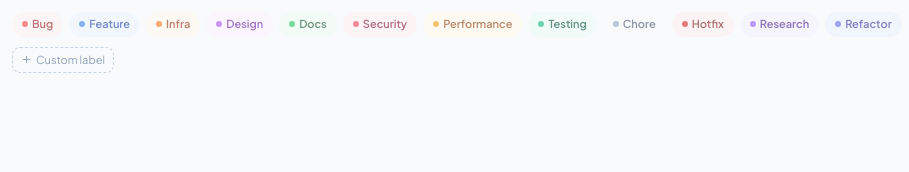
Test case: LabelPicker › opens custom input on Custom label click
Click the button "Custom label".
click(63, 60)  # box [12, 46, 114, 73]
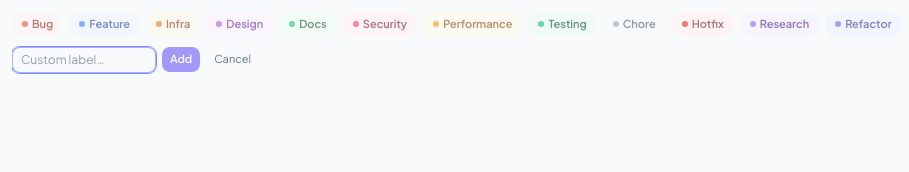
Result: the field with placeholder "Custom label…" is shown at [12, 46, 156, 72]
